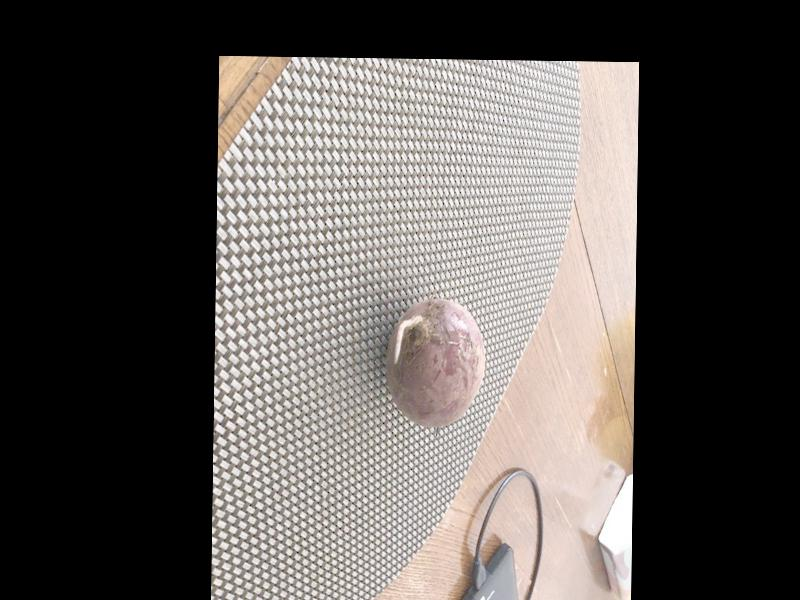Beet: (385, 298, 485, 428)
